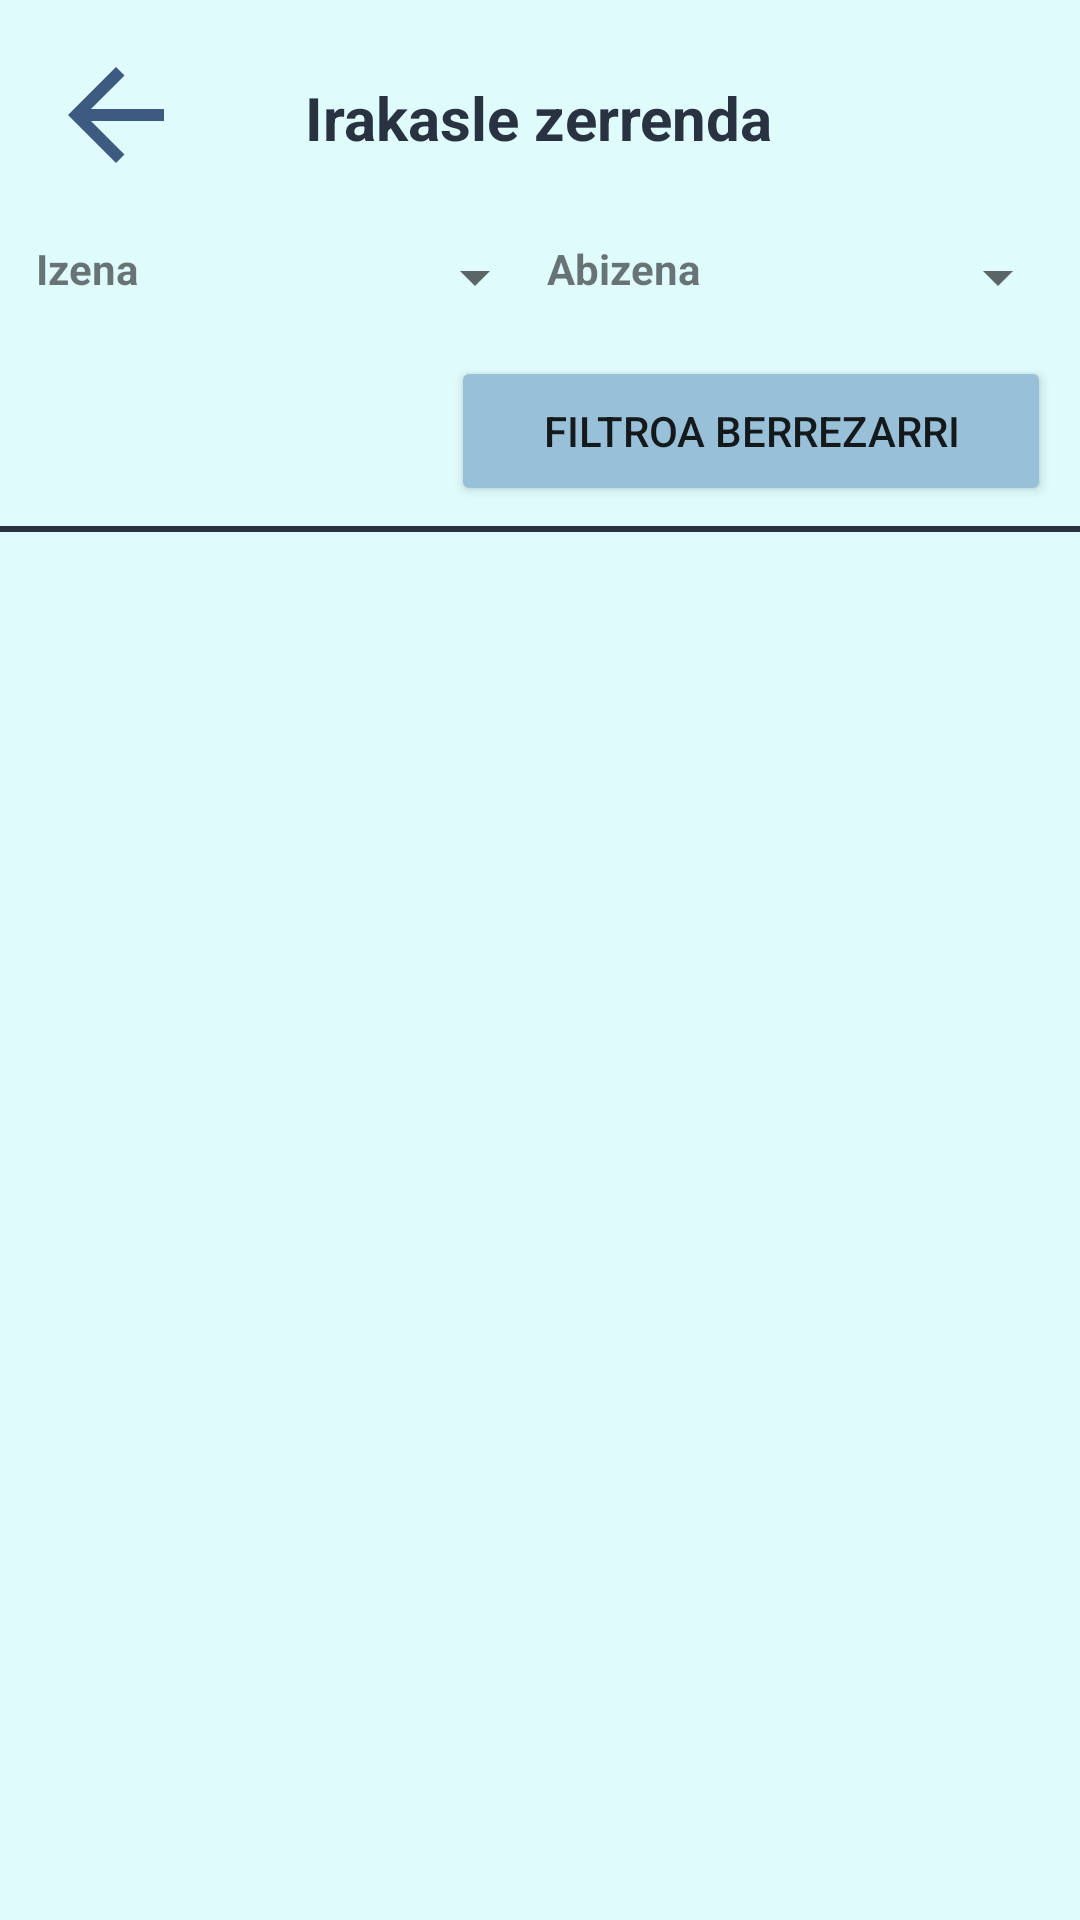

Icon bounding boxes for this 1080 x 1920 phone screenshot, format (x1, y1, x2, y2):
Itzultzeko botoia: (68, 67, 164, 163)
